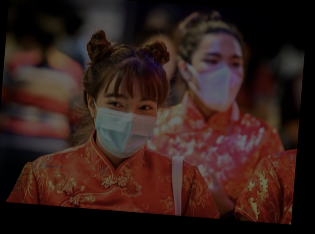with_mask: (92, 84, 156, 158), (188, 45, 246, 112)
